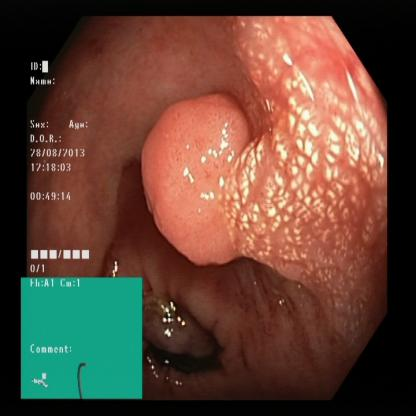Labels: (28, 50, 99, 280), (21, 278, 144, 396)
Polyps: (140, 98, 264, 269)
